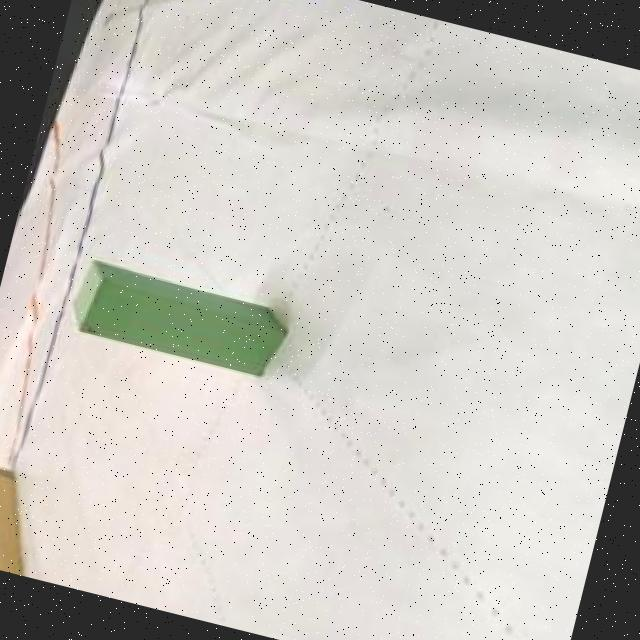greenbox: (62, 252, 293, 382)
